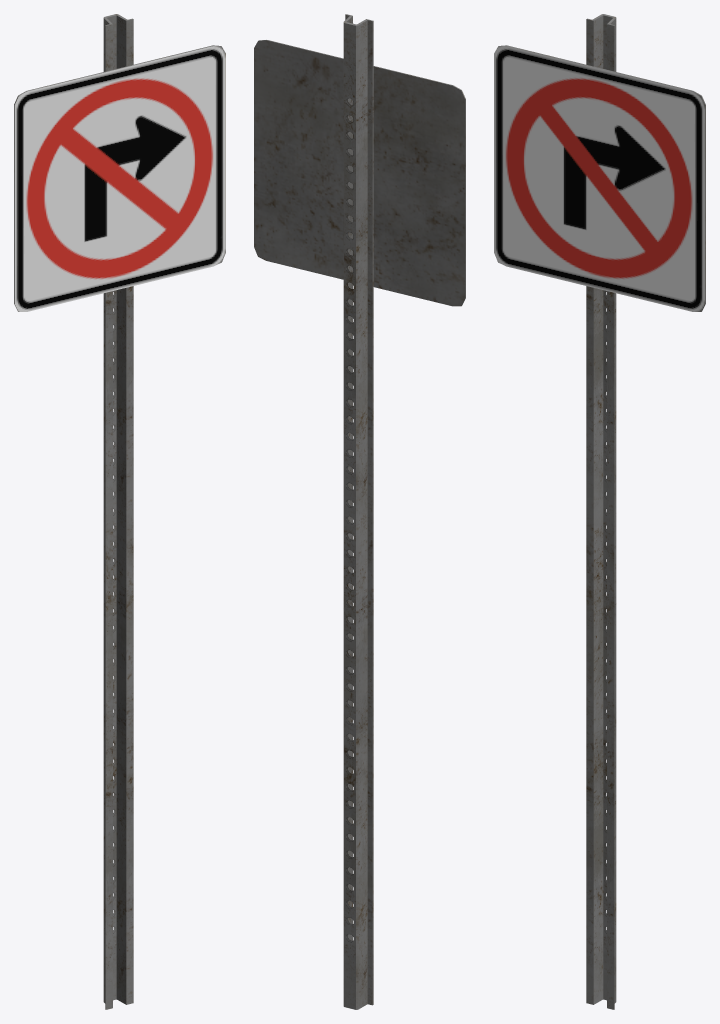
Rendered from norightturnsignboard.glb.
3 views of the same model, side by side, from view 1: azimuth 30°, elevation 25°; view 2: azimuth 150°, elevation 25°; view 3: azimuth 330°, elevation 25° (orthographic).
Visible parts, largest first — view 1: Object_44; view 2: Object_44; view 3: Object_44.
Part boxes in pixels (bbox=[...]): Object_44: bbox=[14, 14, 225, 1009]; Object_44: bbox=[254, 14, 465, 1009]; Object_44: bbox=[494, 14, 705, 1009].
Bounding box in the file's own units: 0.8689 × 3.87 × 0.0732.
Materials: 1 (1 with a texture image).
